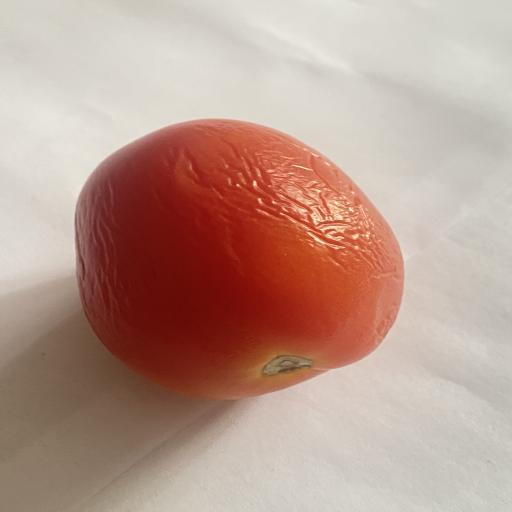spoiled: (75, 119, 404, 399)
